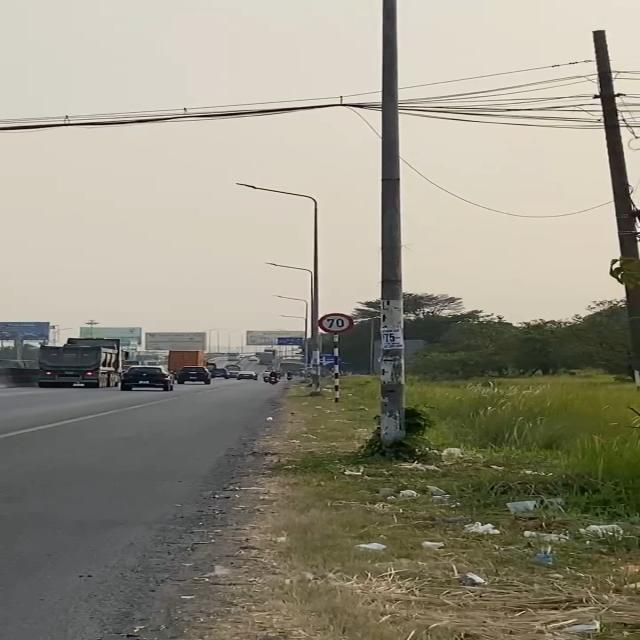127-toc-do-toi-da-70: (316, 313, 356, 333)
